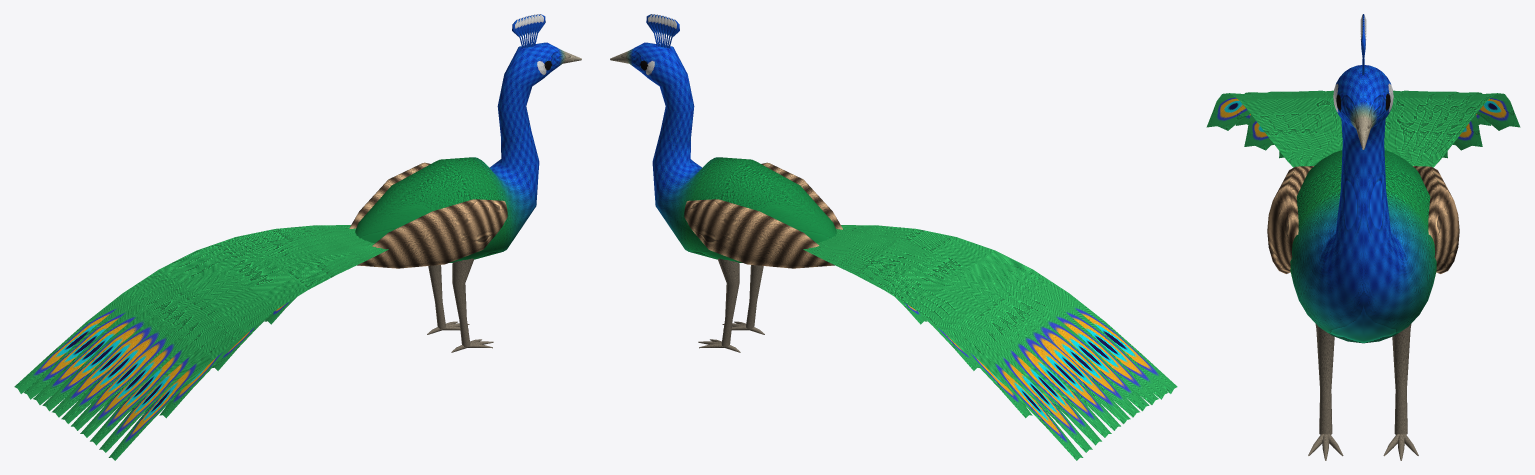
The model's file is peacock.glb.
The picture shows the model from 3 angles, left to right: view 1: azimuth 30°, elevation 25°; view 2: azimuth 150°, elevation 25°; view 3: azimuth 270°, elevation 25°; orthographic projection. The views are drawn at different scales.
Parts seen in each view (by area): view 1: IndianPeacock; view 2: IndianPeacock; view 3: IndianPeacock.
Part boxes in pixels (x1,y1,x2,y2): IndianPeacock: [14, 14, 581, 460]; IndianPeacock: [610, 14, 1177, 460]; IndianPeacock: [1206, 14, 1520, 460].
Size of the model in its own units: 4.91 by 2.78 by 1.66.
Materials: 1 (1 with a texture image).
